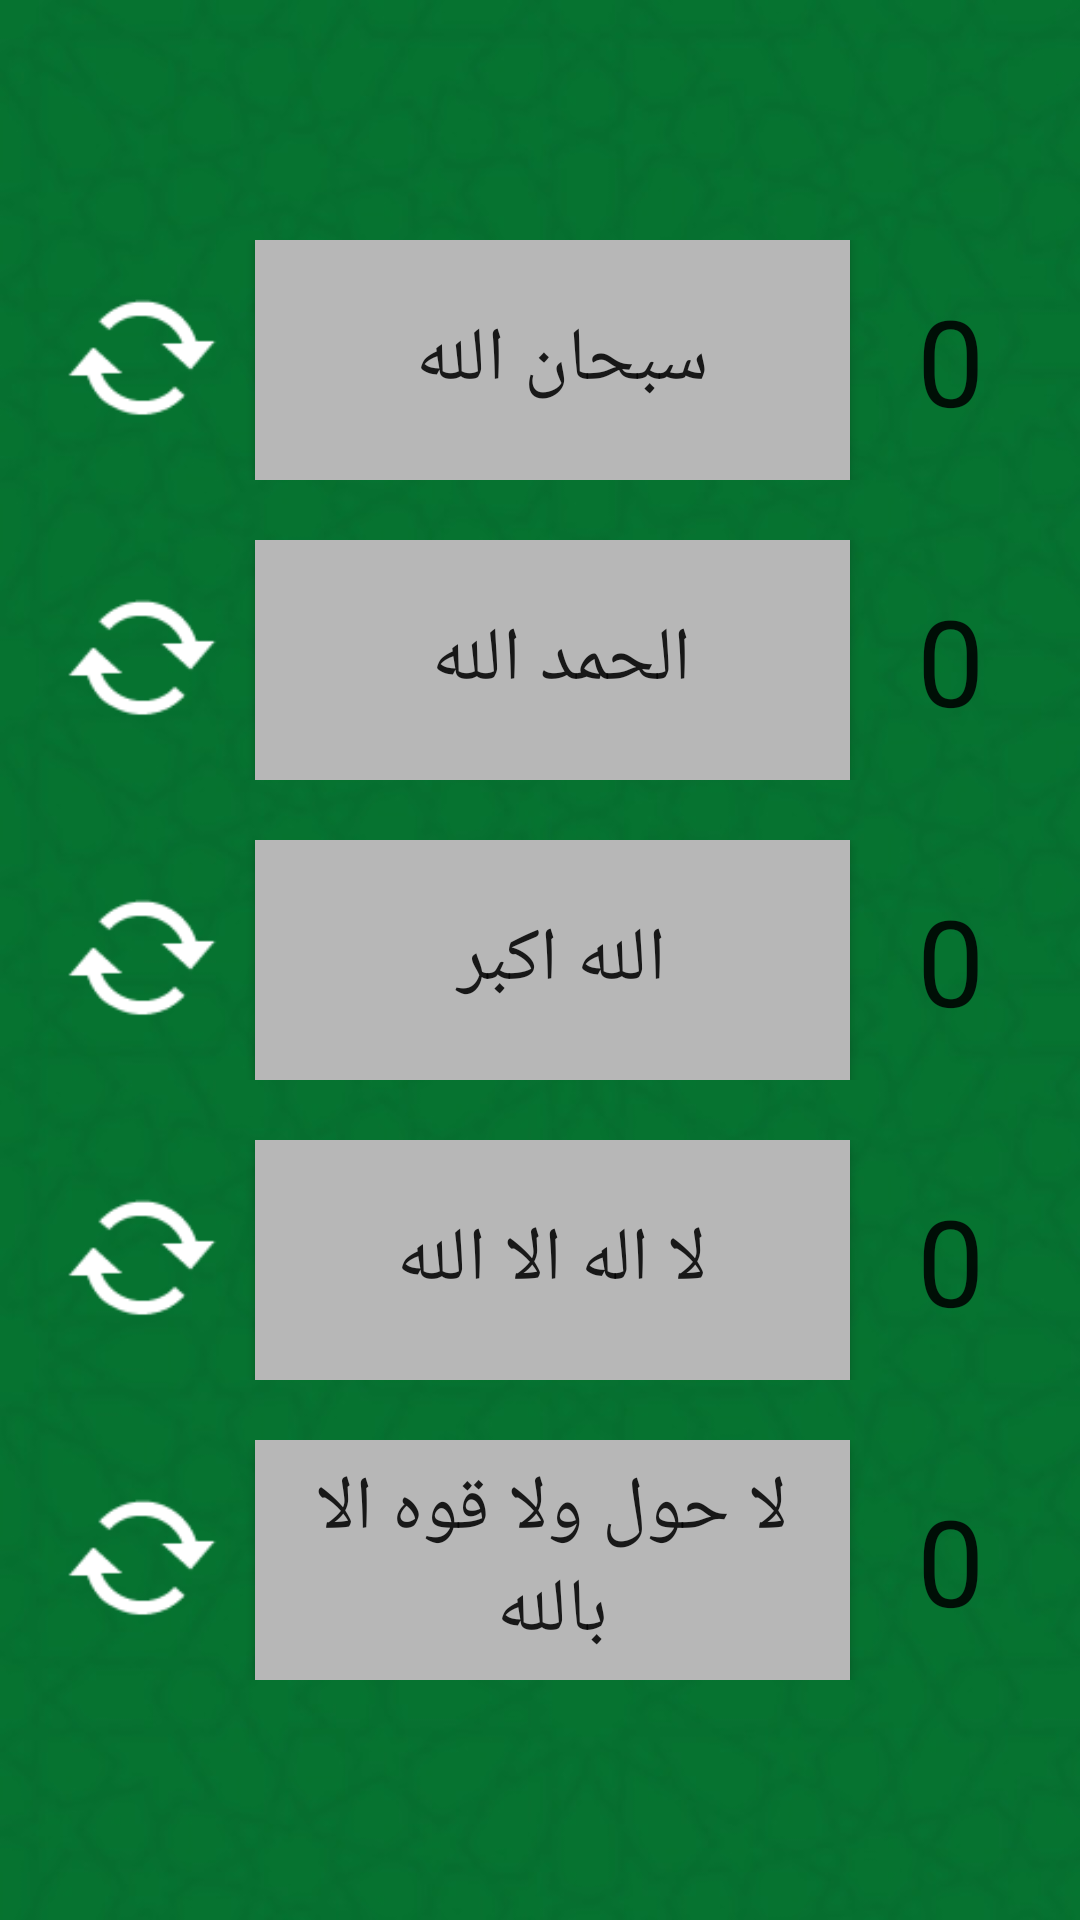

Screen size 1080 x 1920. Icon name, then its box in pixels as (x1, y1, x2, y2):
sync: (68, 300, 216, 415), (68, 600, 216, 715), (68, 900, 216, 1015), (68, 1200, 216, 1315), (68, 1500, 216, 1615)
